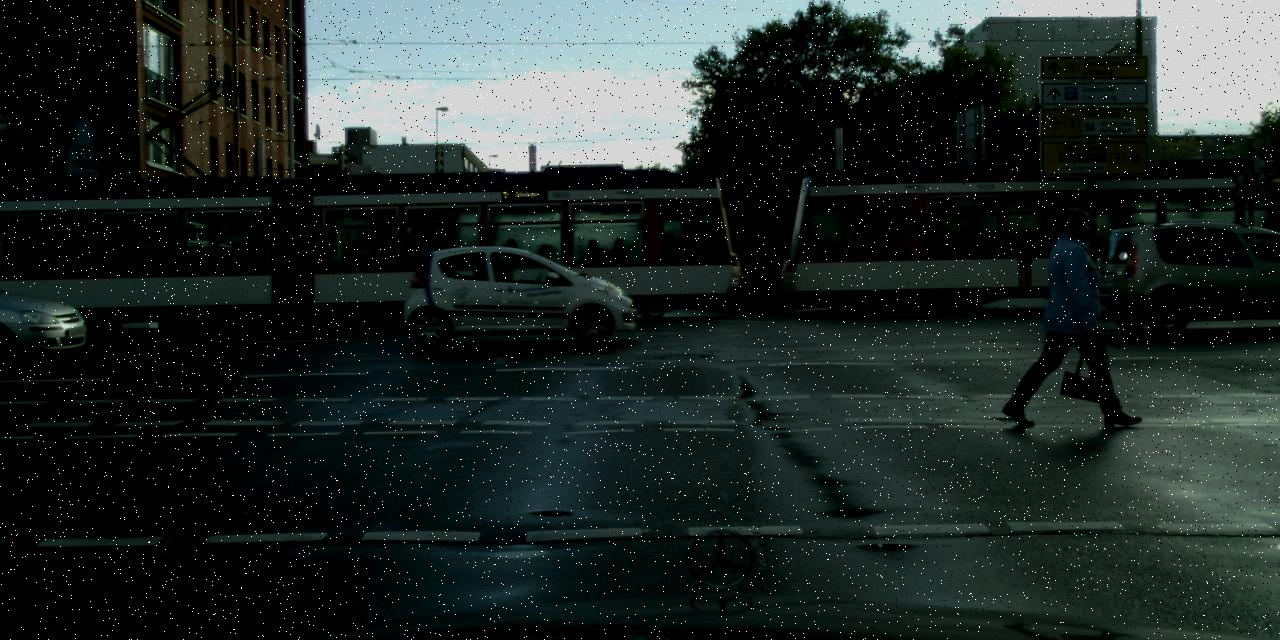ped: (1027, 205, 1115, 422)
